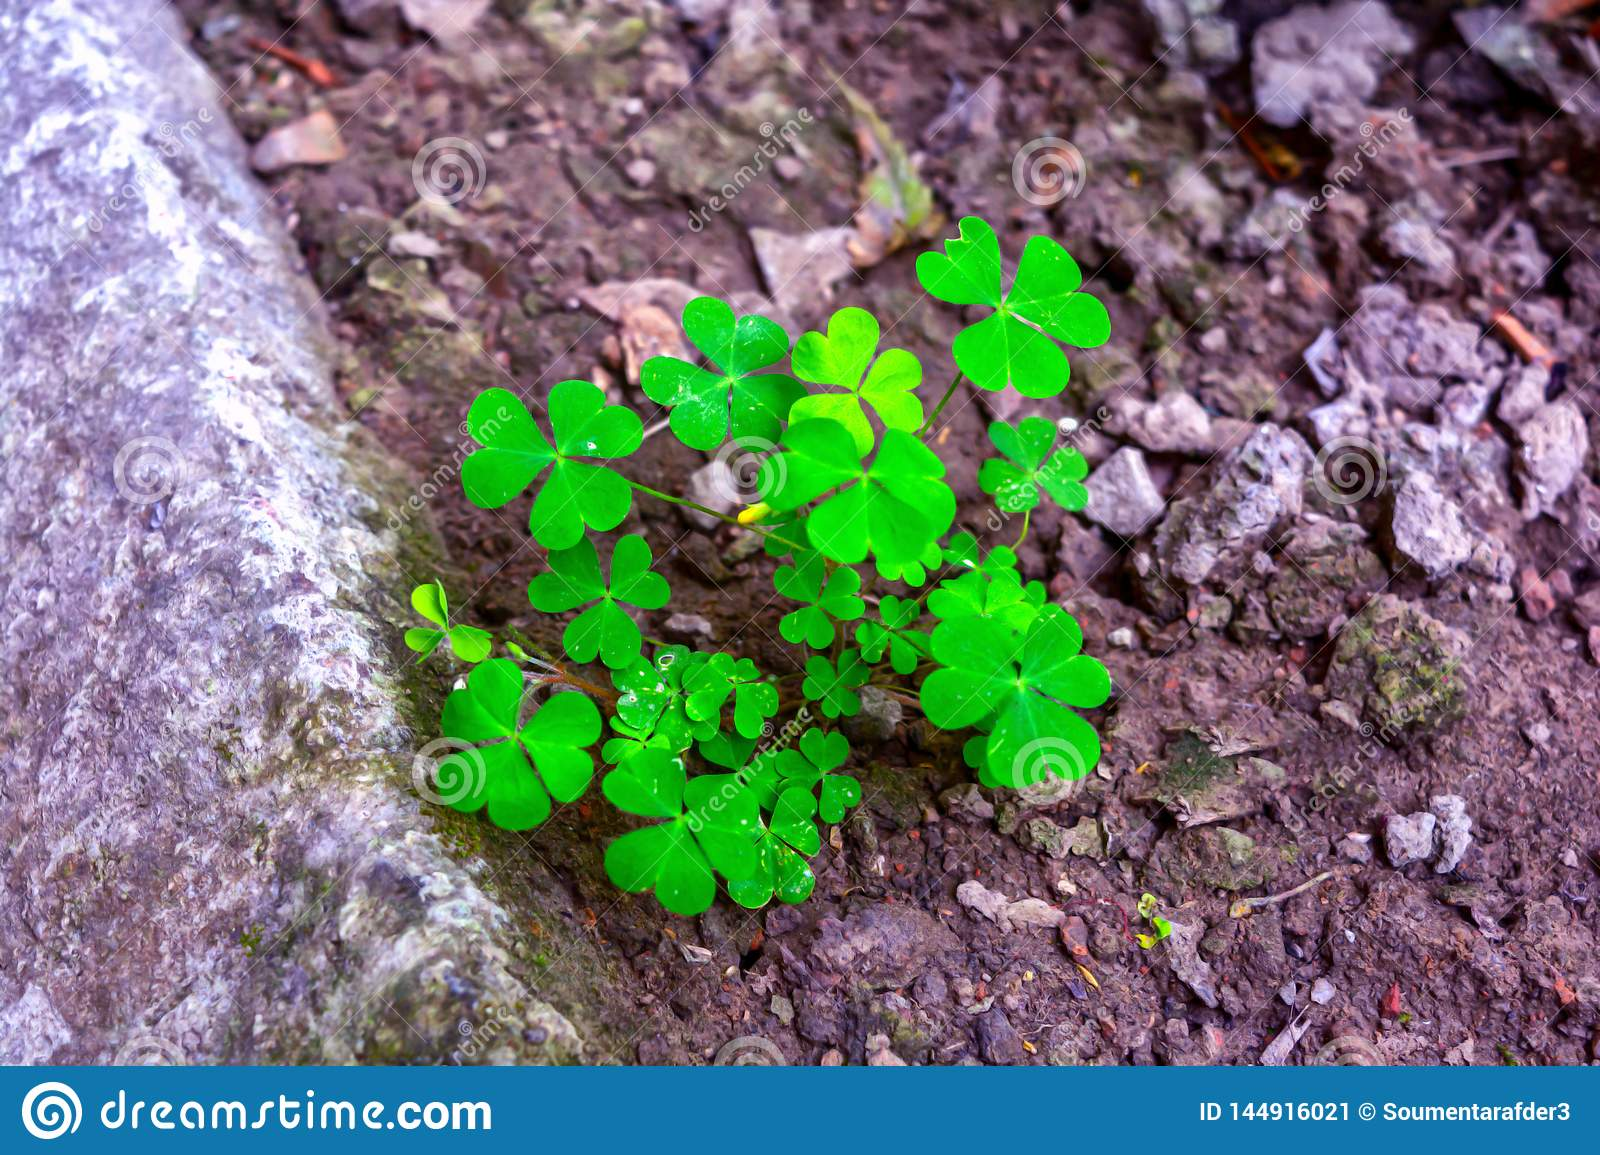oxalis: (342, 219, 1191, 878)
